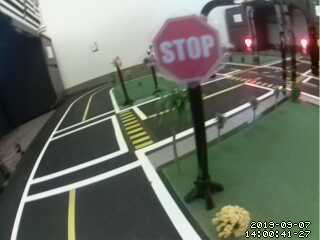Stop_Sign: (154, 7, 230, 88)
